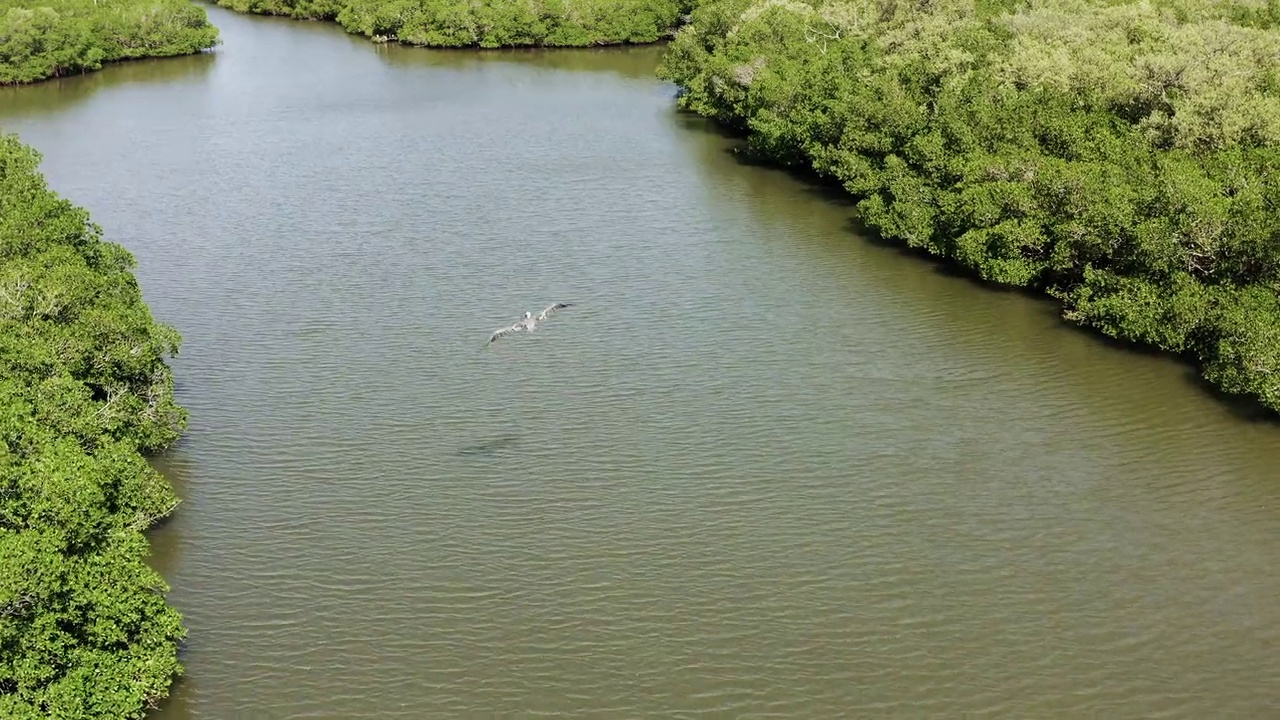bird: (482, 302, 570, 352)
